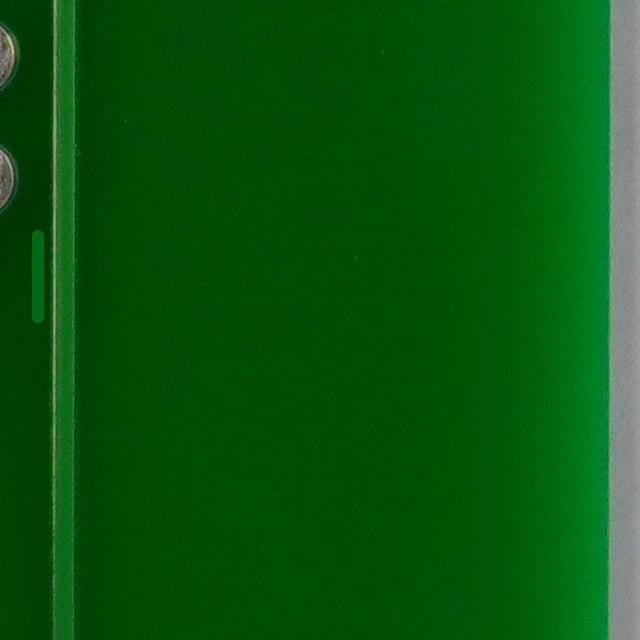spurious_copper: (14, 217, 66, 330)
